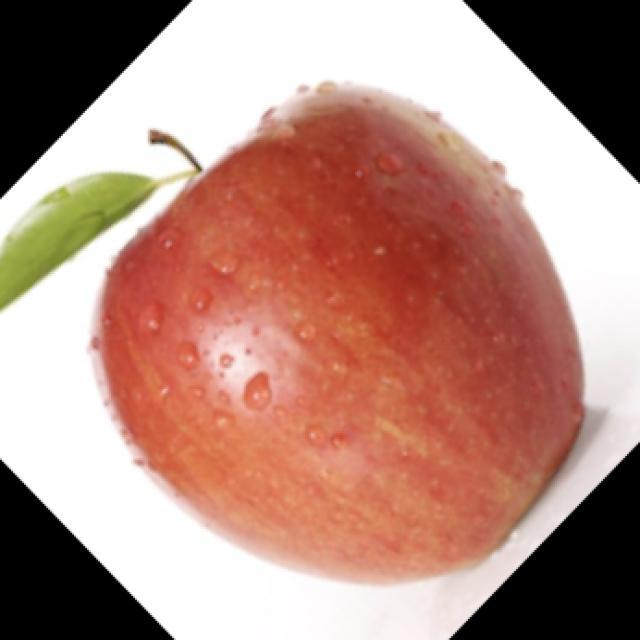Fresh Apple: (117, 95, 583, 585)
